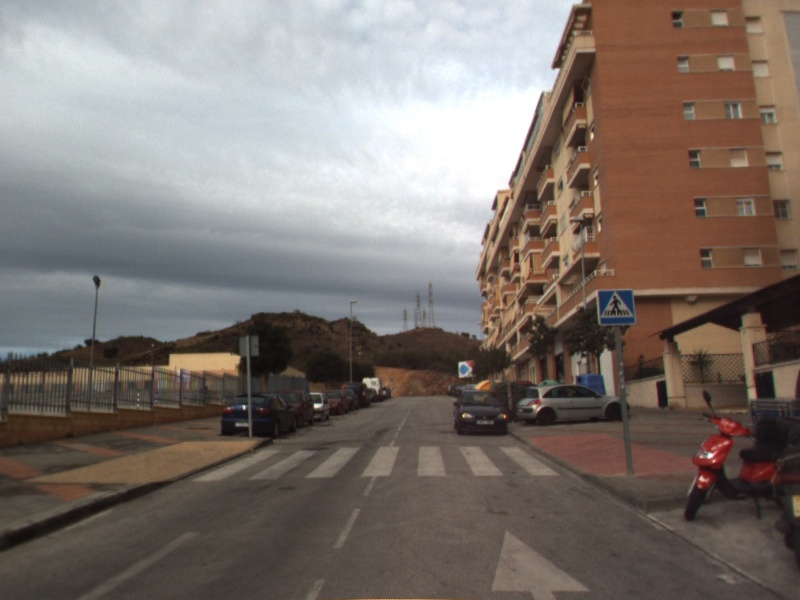STRAIGHT: (488, 527, 593, 600)
